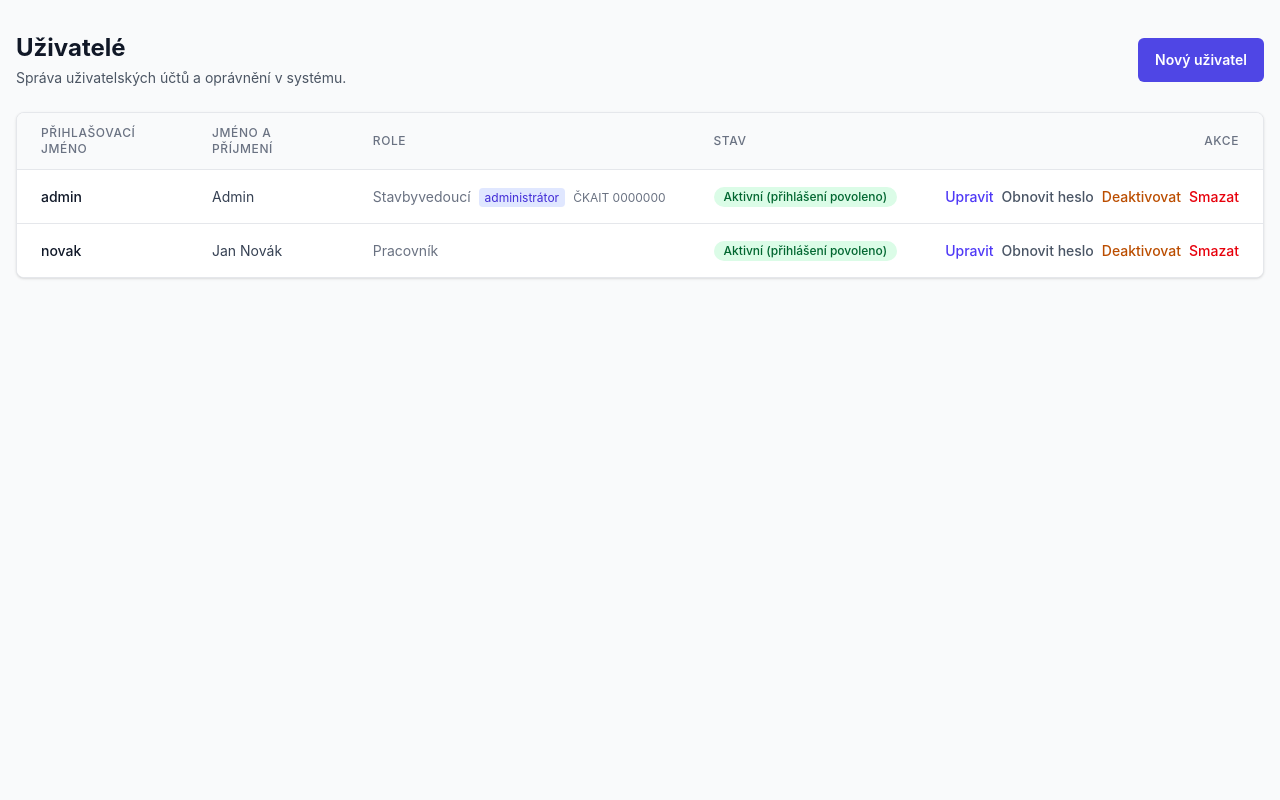
Test case: the temporary password of a new account › is shown in a dialog that cannot be dismissed until it is handed over, and is nowhere in the page afterwards
The image size is (1280, 800).
Expected: the text "Jan Novák" is shown, left=188, top=224, right=349, bottom=277
Click the button "Nový uživatel": [1201, 60] box left=1138, top=38, right=1264, bottom=82
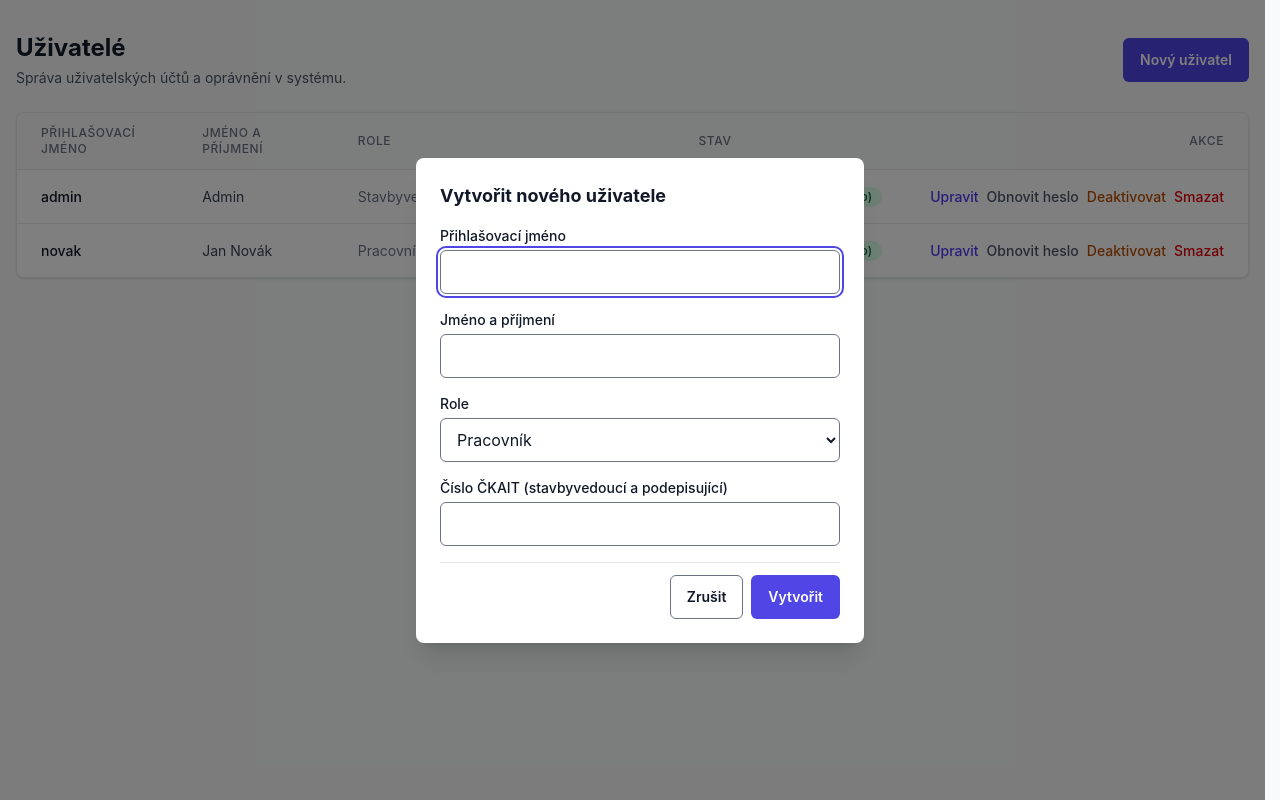
In the field labelled "Přihlašovací jméno": [640, 272] box left=440, top=250, right=840, bottom=294, type "svoboda"
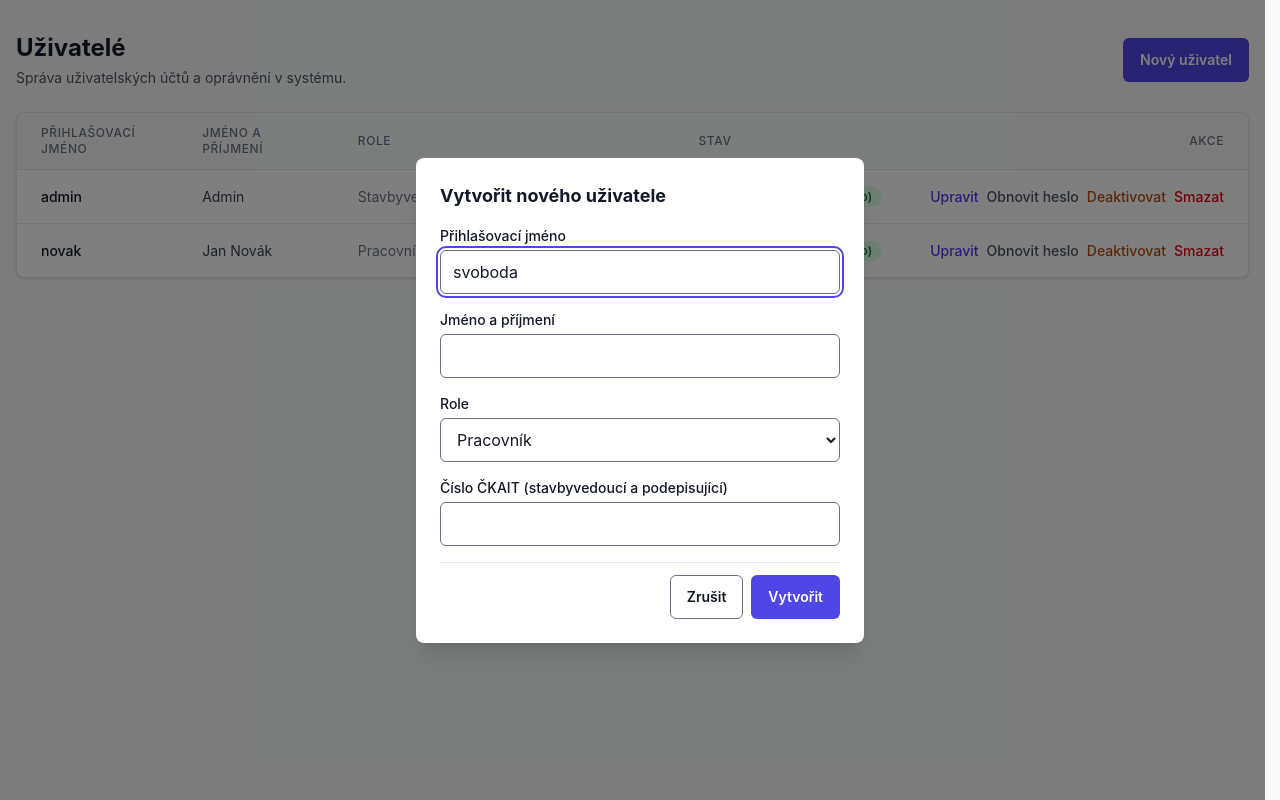
In the field labelled "Jméno a příjmení": [640, 356] box left=440, top=334, right=840, bottom=378, type "Petr Svoboda"
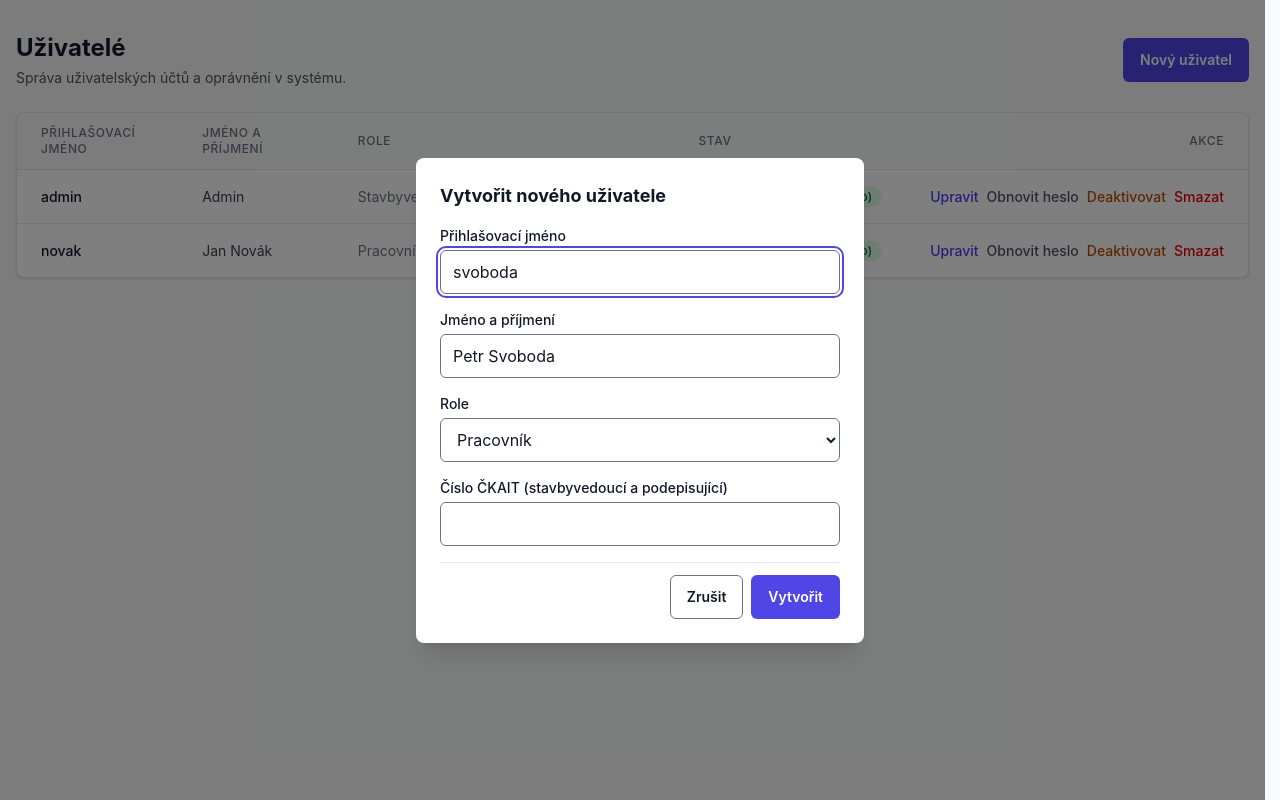
Submit the form, box left=440, top=226, right=840, bottom=546
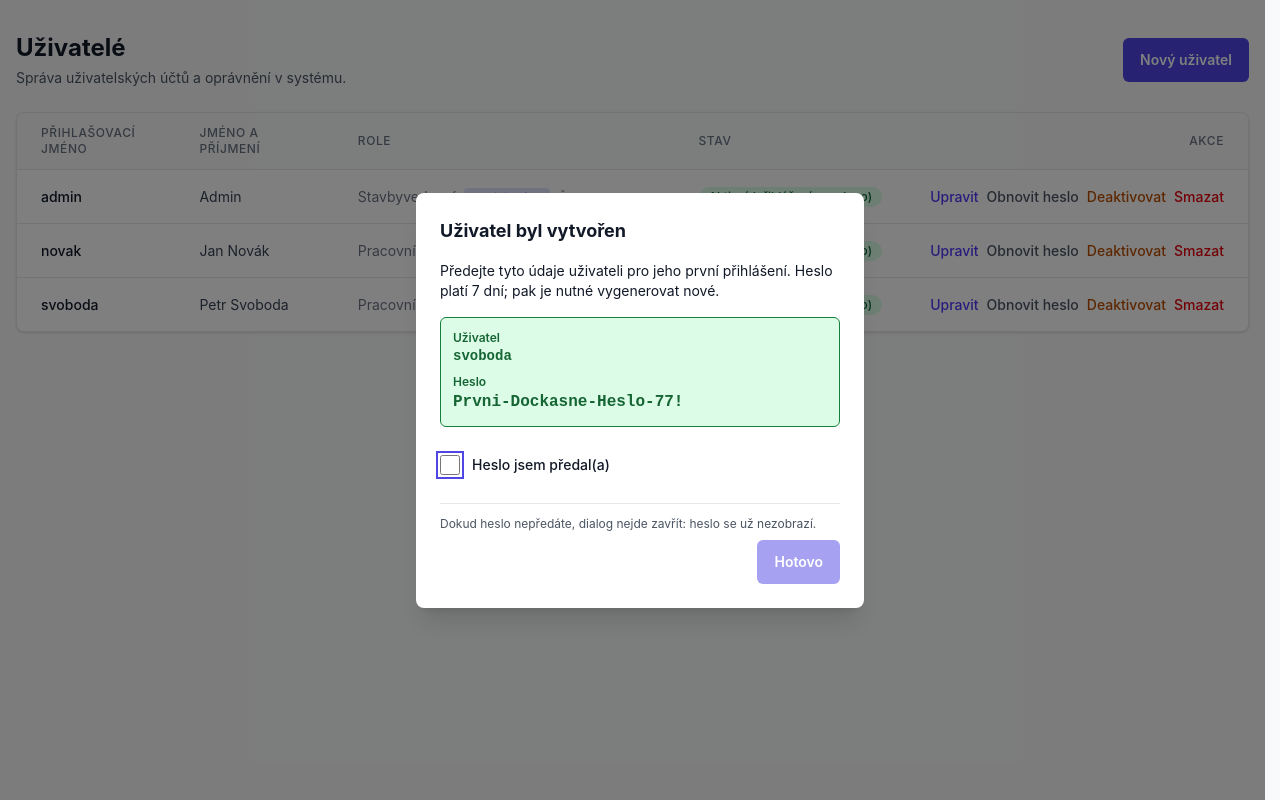
Expected: the heading "Vytvořit nového uživatele" is gone
Expected: the text with test id "one-time-password" reads "Prvni-Dockasne-Heslo-77!", left=453, top=392, right=683, bottom=410
Expected: the button "Hotovo" is disabled, left=758, top=540, right=840, bottom=584
Click the checkbox labelled "Heslo jsem předal(a)": [450, 464] box left=440, top=454, right=460, bottom=474
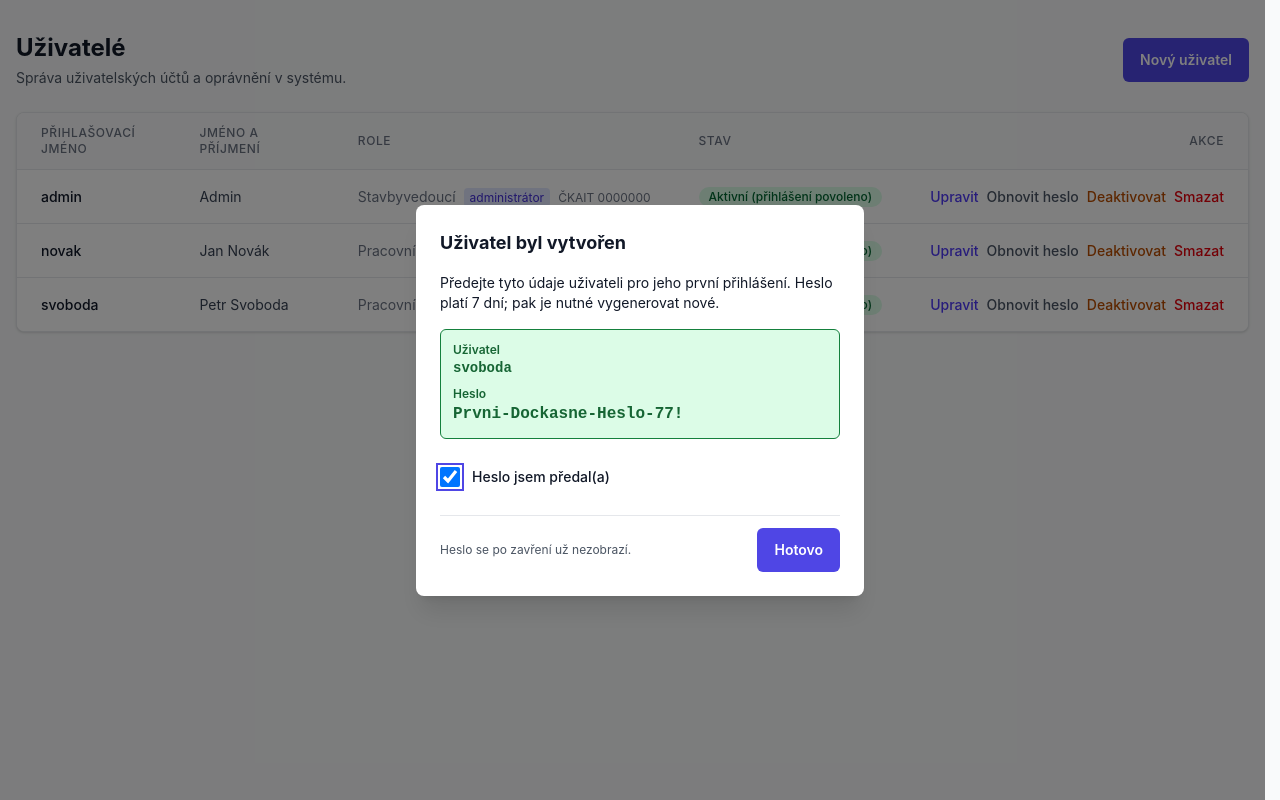
Click the button "Hotovo": [799, 550] box left=758, top=528, right=840, bottom=572
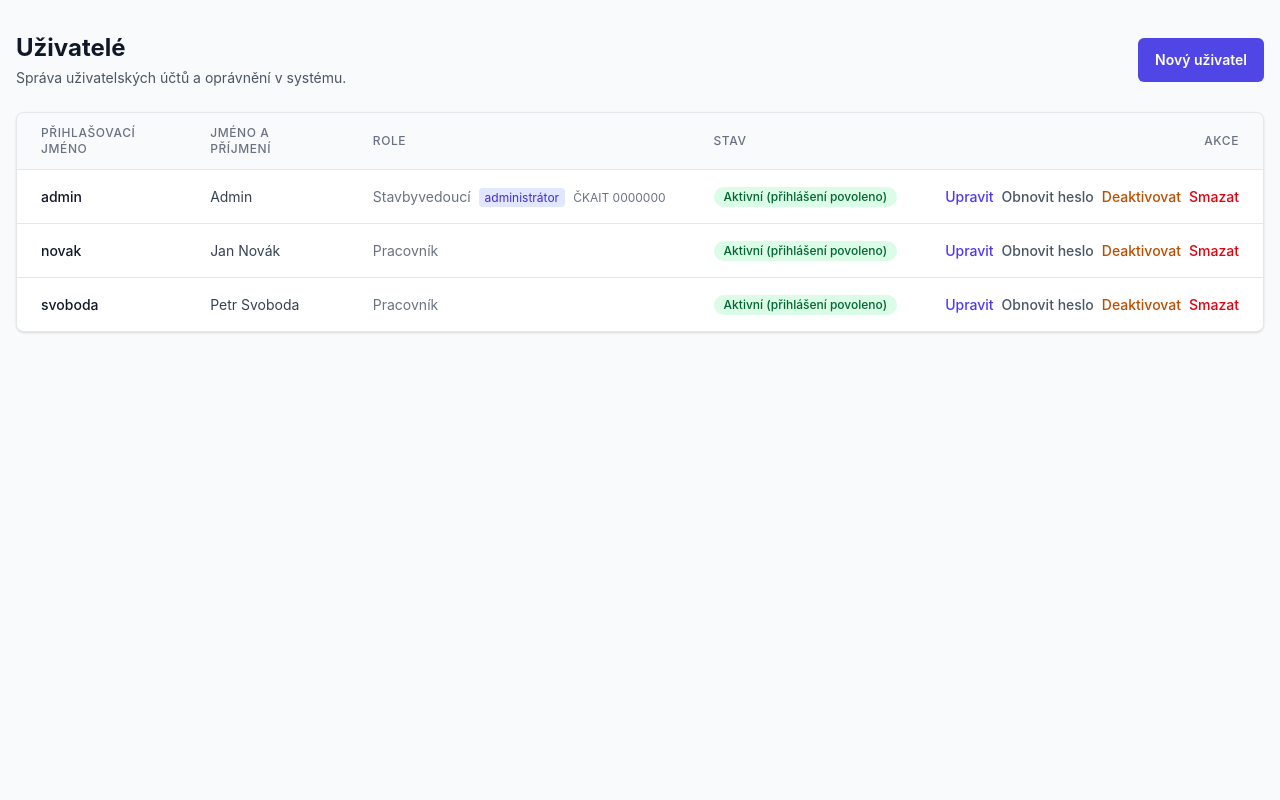
Expected: the text "Petr Svoboda" is shown, left=186, top=278, right=349, bottom=331
Expected: the dialog is gone
Expected: the text "Prvni-Dockasne-Heslo-77!" is gone
